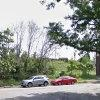Tree: (40, 3, 100, 65)
